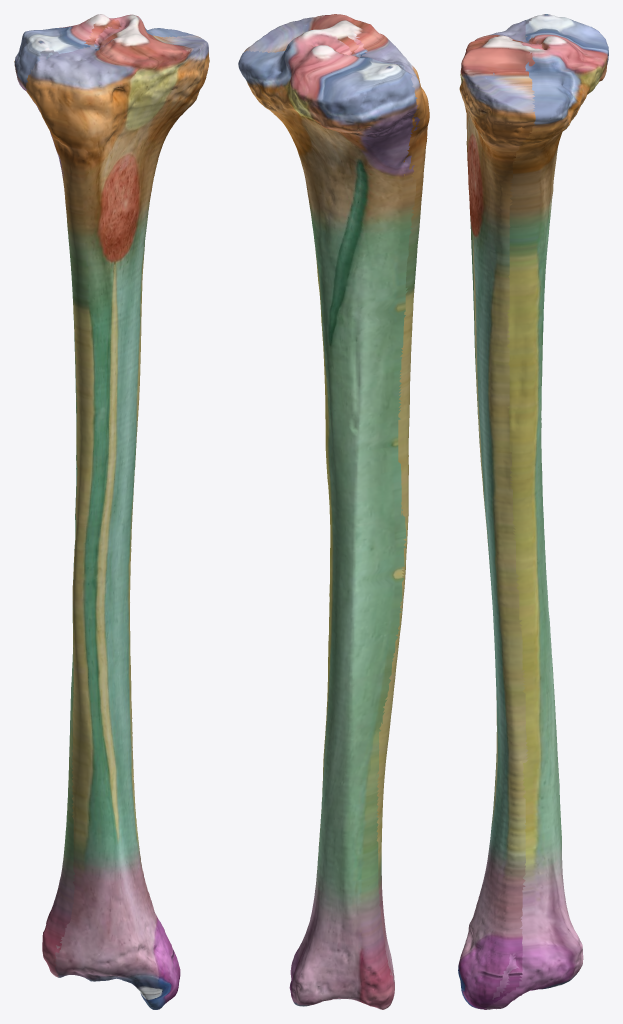
The model's file is kosc-piszczelowa.glb.
3 views of the same model, side by side, from view 1: azimuth 30°, elevation 25°; view 2: azimuth 150°, elevation 25°; view 3: azimuth 270°, elevation 25° (orthographic). The views are drawn at different scales.
Bounding box in the file's own units: 0.0614 × 0.3294 × 0.0468.
2 materials, 1 textured.
